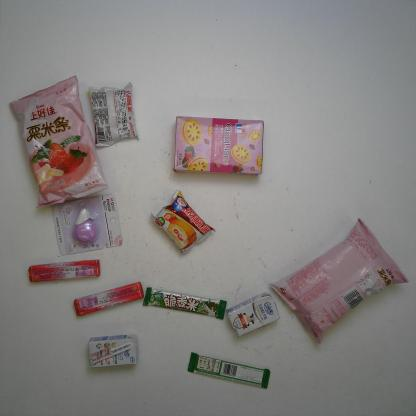Candy: (73, 280, 146, 317), (27, 259, 102, 282)
Chocolate: (186, 352, 272, 390), (140, 286, 228, 322)
Dessert: (171, 115, 266, 176), (147, 188, 217, 258), (87, 81, 140, 148)
Milk: (222, 293, 280, 338), (86, 334, 139, 369)
Puffed Food: (269, 217, 410, 346), (10, 74, 108, 209)
Stationery: (50, 192, 124, 256)
